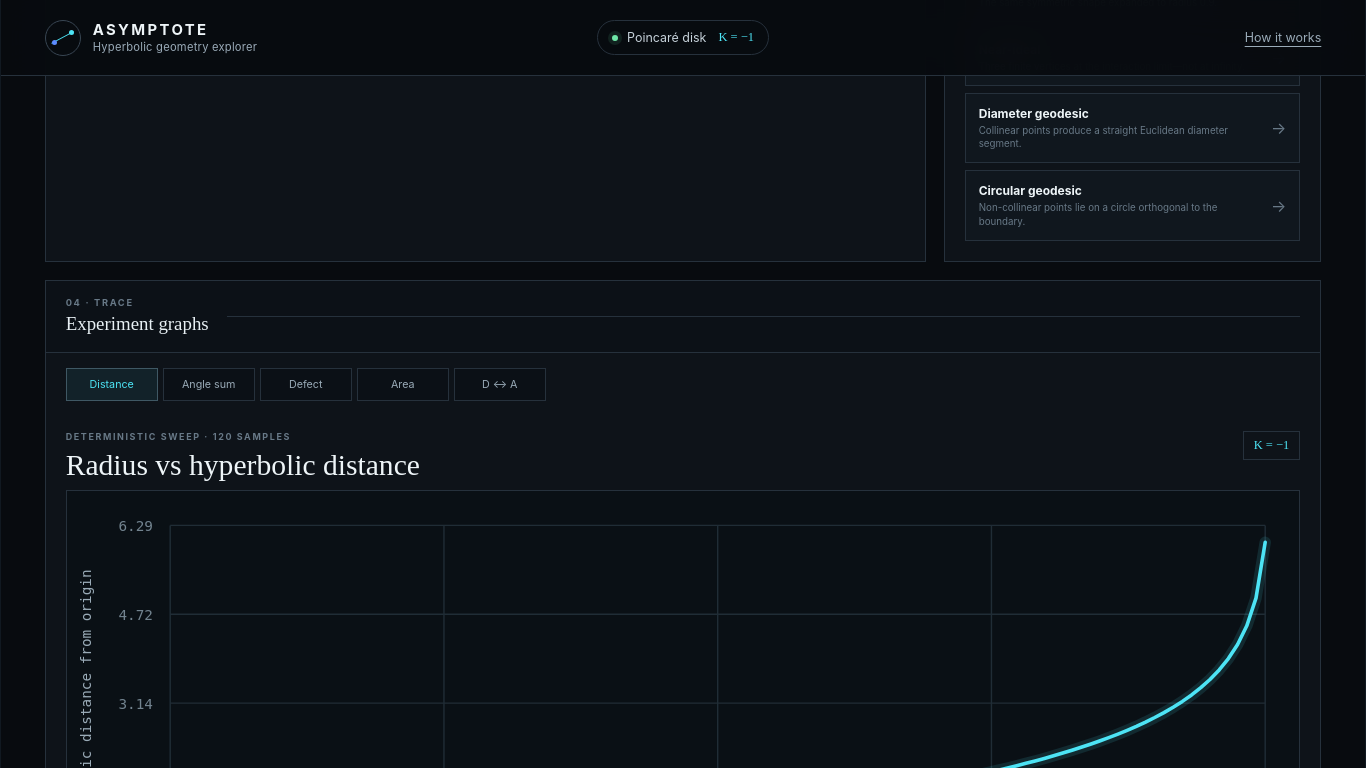
ASYMPTOTE application integration › labels the defect-area graph as a Gauss–Bonnet visualization, not a proof
(page scrolled)
Step 1. Click the tab "D ↔ A" → point(500, 384), box [454,368,546,401]
(page scrolled)
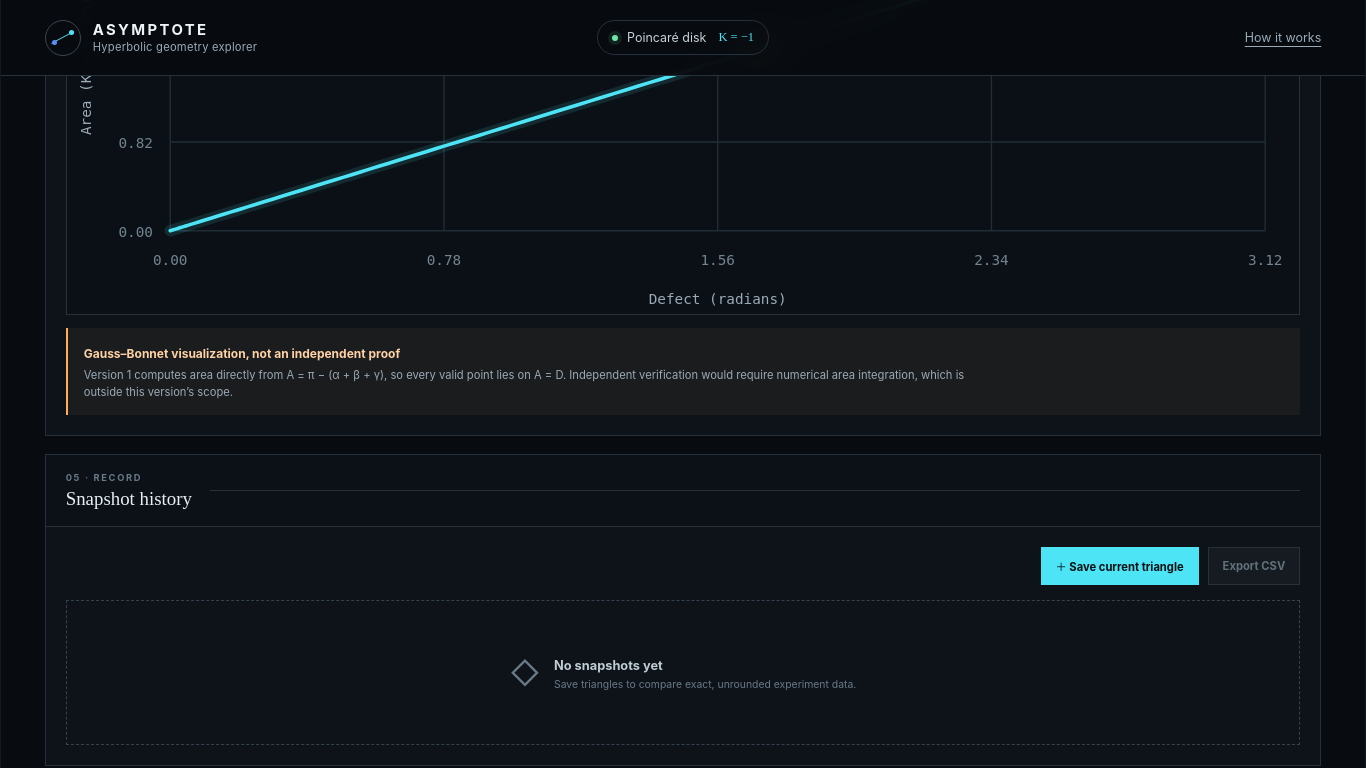
Now the text "Gauss–Bonnet visualization, not an independent proof" is shown, box [84,346,400,361]
Now the text "numerical area integration" is shown, box [84,368,964,399]
